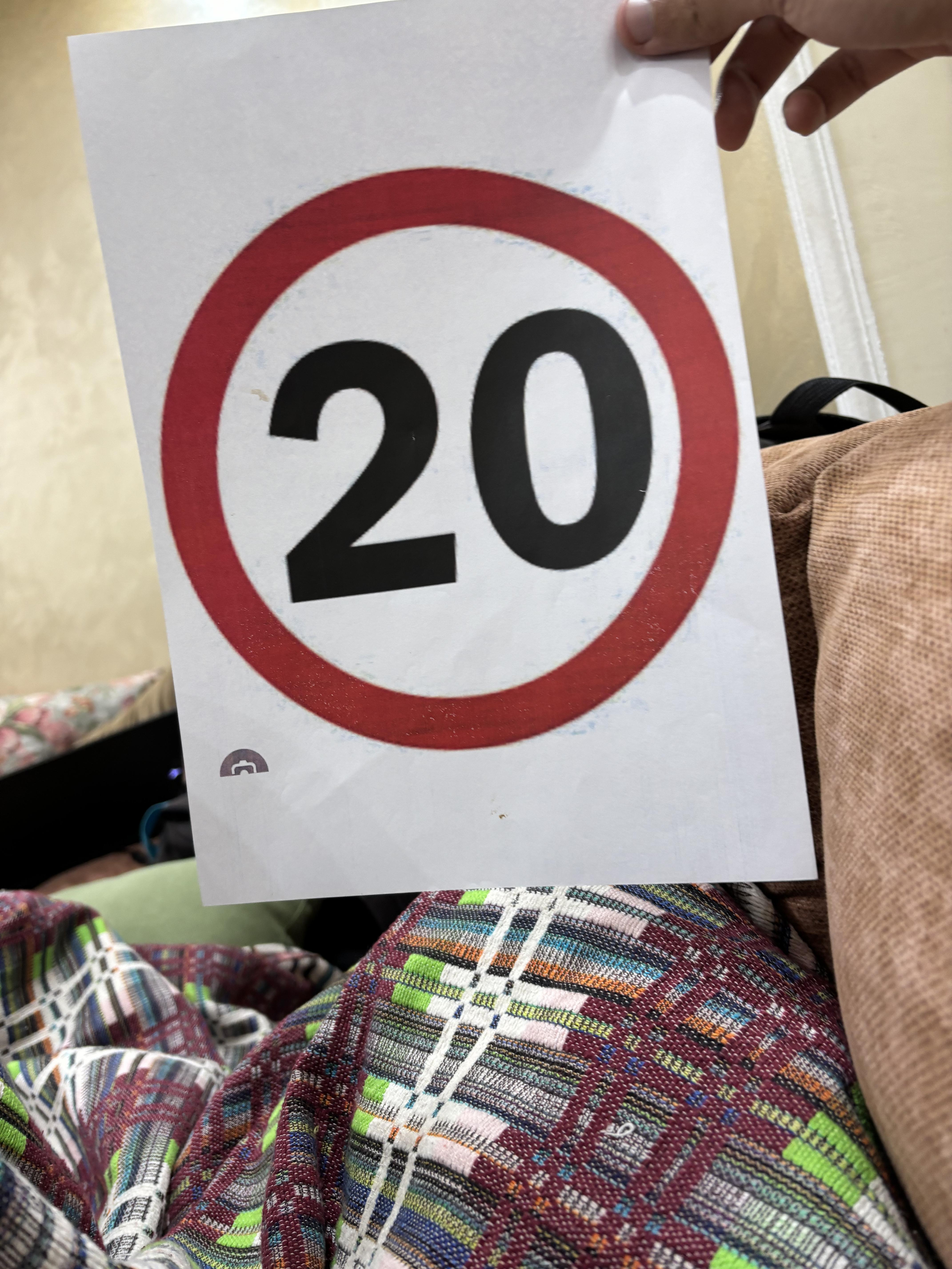20-Speed: (154, 158, 749, 758)
